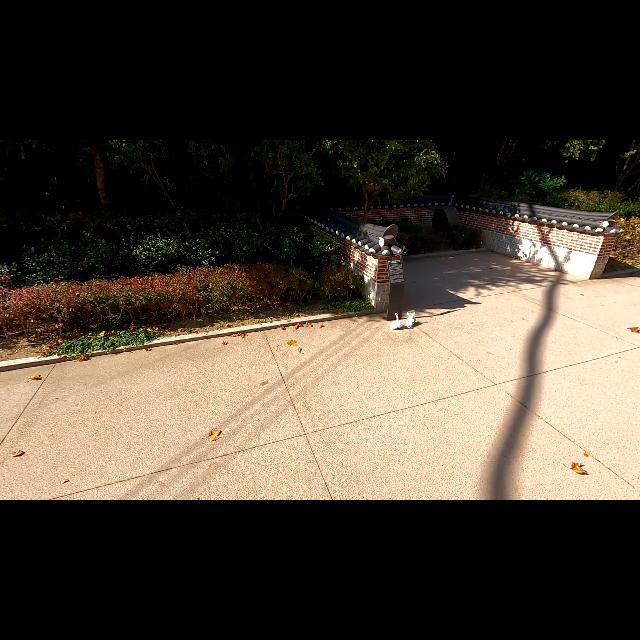trash: (390, 312, 404, 332), (406, 310, 416, 330)
